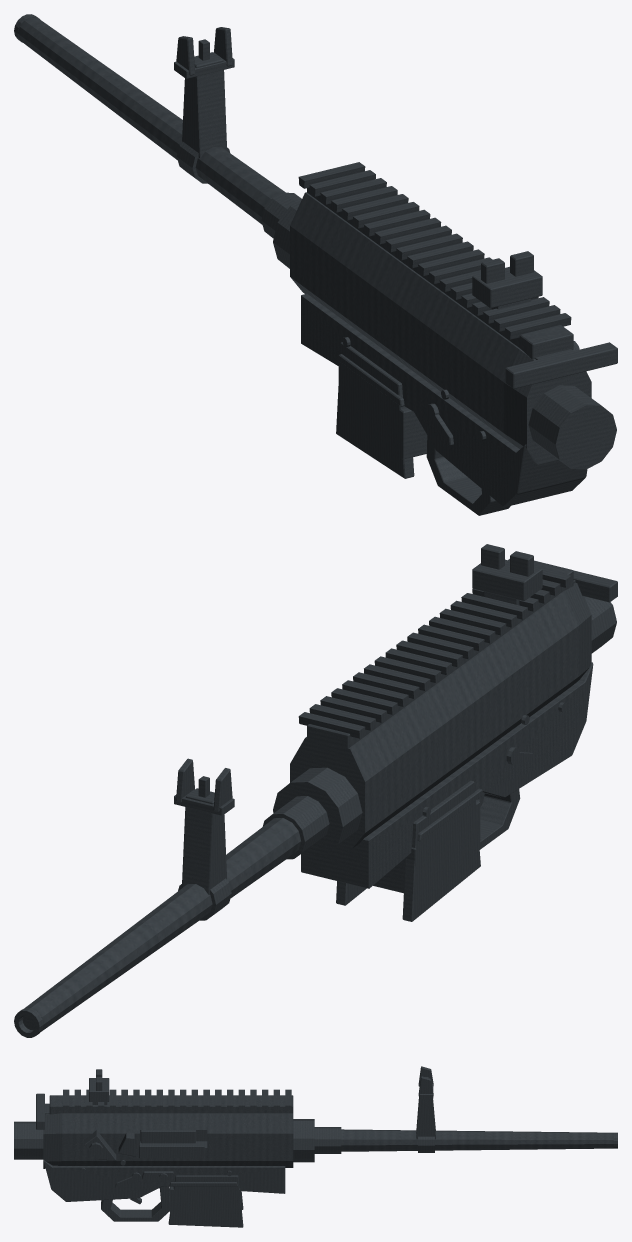
Rendered from weapon_hk416a5.glb.
3 renders of one model, top to bottom at view 1: azimuth 30°, elevation 25°; view 2: azimuth 150°, elevation 25°; view 3: azimuth 270°, elevation 25°, orthographic. The views are drawn at different scales.
Visible parts, largest first — view 1: body_LOD0, action_LOD0; view 2: body_LOD0, action_LOD0; view 3: body_LOD0, action_LOD0.
Boxes of the visible parts, box(x1,y1,x2,y2) form: body_LOD0: box(14, 14, 616, 515); action_LOD0: box(505, 342, 617, 388); body_LOD0: box(14, 544, 616, 1037); action_LOD0: box(508, 559, 617, 602); body_LOD0: box(14, 1066, 617, 1227); action_LOD0: box(36, 1093, 195, 1143).
Size of what is drawn, in the model's own units: 0.137 by 0.3027 by 1.13.
Materials: 1 (1 with a texture image).
